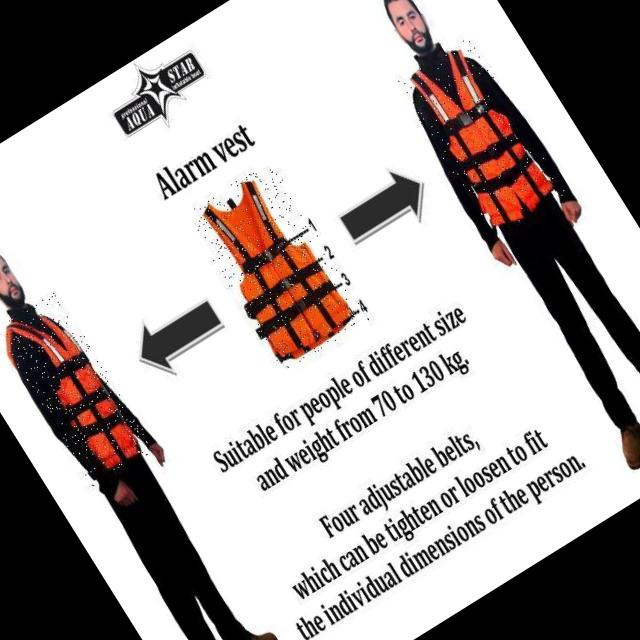safety_vest: (183, 159, 370, 372), (395, 36, 567, 239), (0, 289, 155, 487)
